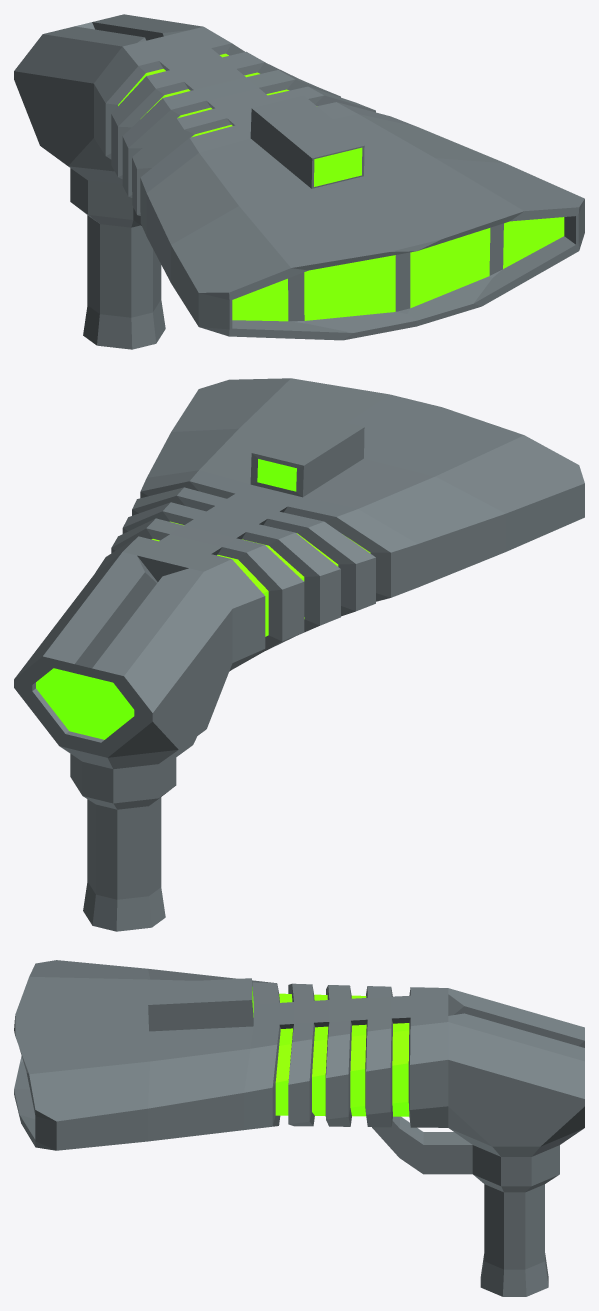
Rendered from Shotgun.fbx.
3 views of the same model, one above another, from view 1: azimuth 30°, elevation 25°; view 2: azimuth 150°, elevation 25°; view 3: azimuth 270°, elevation 25° (orthographic). The views are drawn at different scales.
Parts seen in each view (by area): view 1: Cube; view 2: Cube; view 3: Cube.
Part boxes in pixels (x1,y1,x2,y2): Cube: (14,14,584,349); Cube: (14,378,584,931); Cube: (14,960,584,1296).
Bounding box in the file's own units: 557 × 472 × 832.
